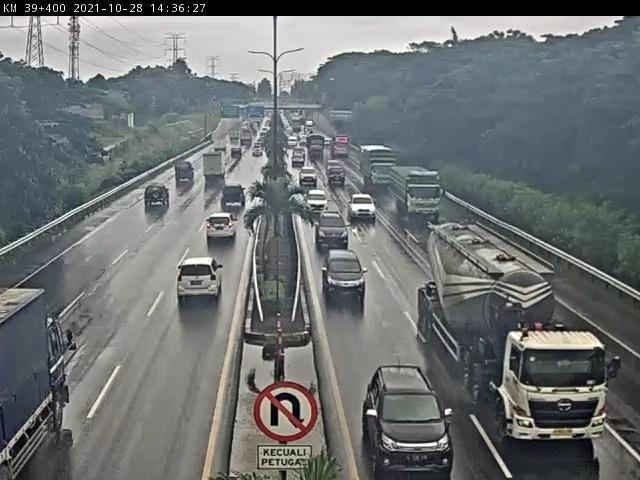car: (364, 366, 458, 480), (323, 248, 369, 303), (177, 257, 226, 303), (316, 213, 351, 250), (205, 214, 238, 244), (221, 183, 250, 211), (143, 184, 172, 211), (348, 192, 375, 219), (305, 189, 331, 215), (174, 161, 197, 186), (301, 167, 322, 188), (328, 165, 346, 189)
truck: (417, 222, 611, 445), (394, 167, 445, 223), (361, 147, 398, 191), (201, 155, 225, 184)
